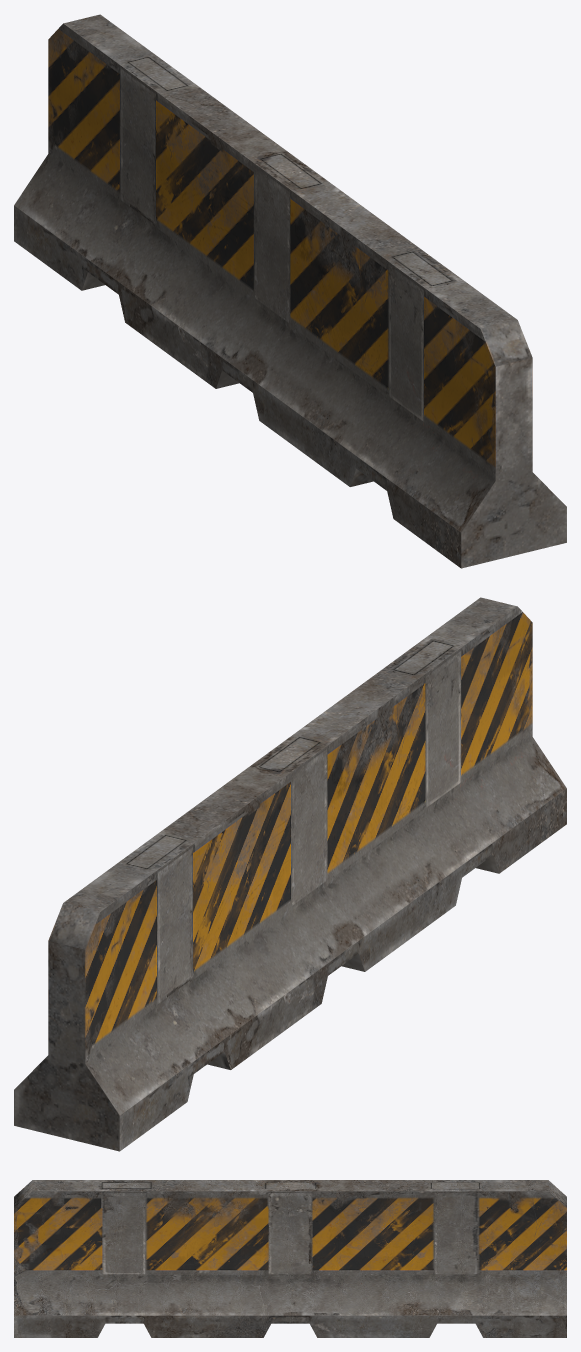
Rendered from HH_Concrete_Barrier_3m.fbx.
The picture shows the model from 3 angles, top to bottom: view 1: azimuth 30°, elevation 25°; view 2: azimuth 150°, elevation 25°; view 3: azimuth 270°, elevation 25°; orthographic projection. The views are drawn at different scales.
Visible parts, largest first — view 1: HH_Concrete_Barrier_3m; view 2: HH_Concrete_Barrier_3m; view 3: HH_Concrete_Barrier_3m.
Boxes of the visible parts, x1=… form: HH_Concrete_Barrier_3m: x1=14, y1=14, x2=566, y2=568; HH_Concrete_Barrier_3m: x1=14, y1=597, x2=566, y2=1151; HH_Concrete_Barrier_3m: x1=14, y1=1180, x2=566, y2=1337.
Bounding box in the file's own units: 40.99 × 81.53 × 300.
